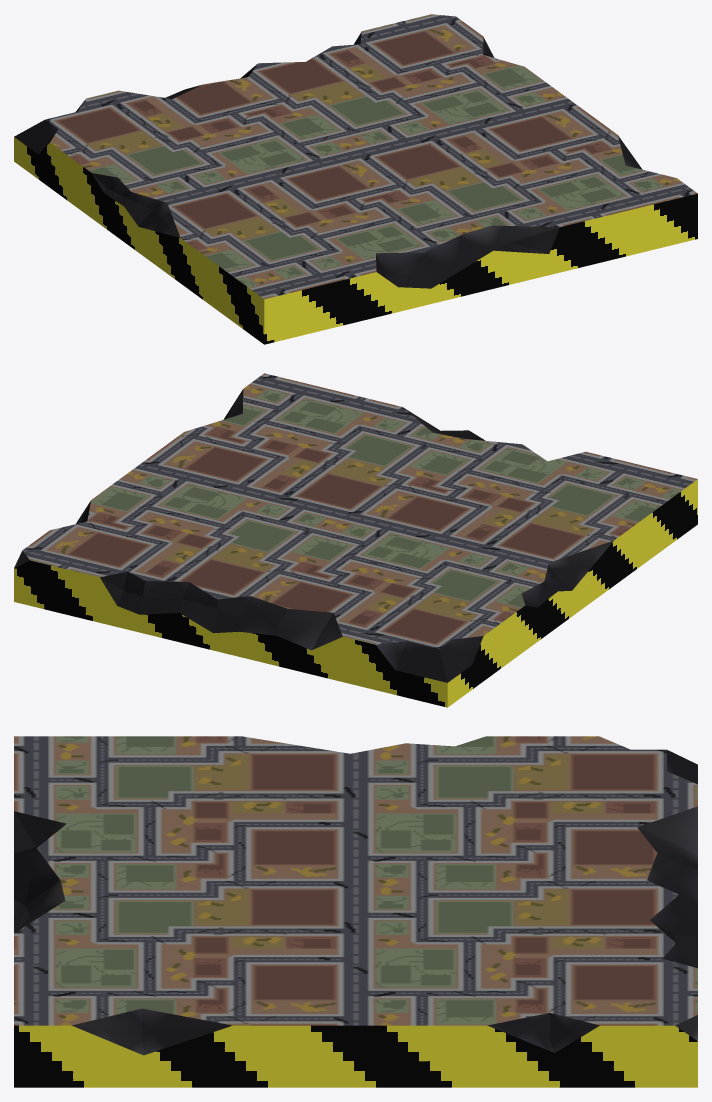
The model's file is City.fbx.
3 renders of one model, top to bottom at view 1: azimuth 30°, elevation 25°; view 2: azimuth 150°, elevation 25°; view 3: azimuth 270°, elevation 25°, orthographic. The views are drawn at different scales.
Parts seen in each view (by area): view 1: Cube.003; view 2: Cube.003; view 3: Cube.003.
Part boxes in pixels (x1=…): Cube.003: x1=14, y1=14, x2=697, y2=344; Cube.003: x1=14, y1=373, x2=697, y2=707; Cube.003: x1=14, y1=736, x2=697, y2=1087.
Size of the model in its own units: 1000 by 100 by 1000.
